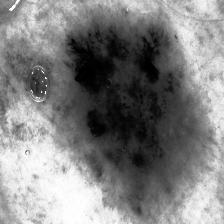Benign Marking or Mole: (62, 25, 197, 214)
